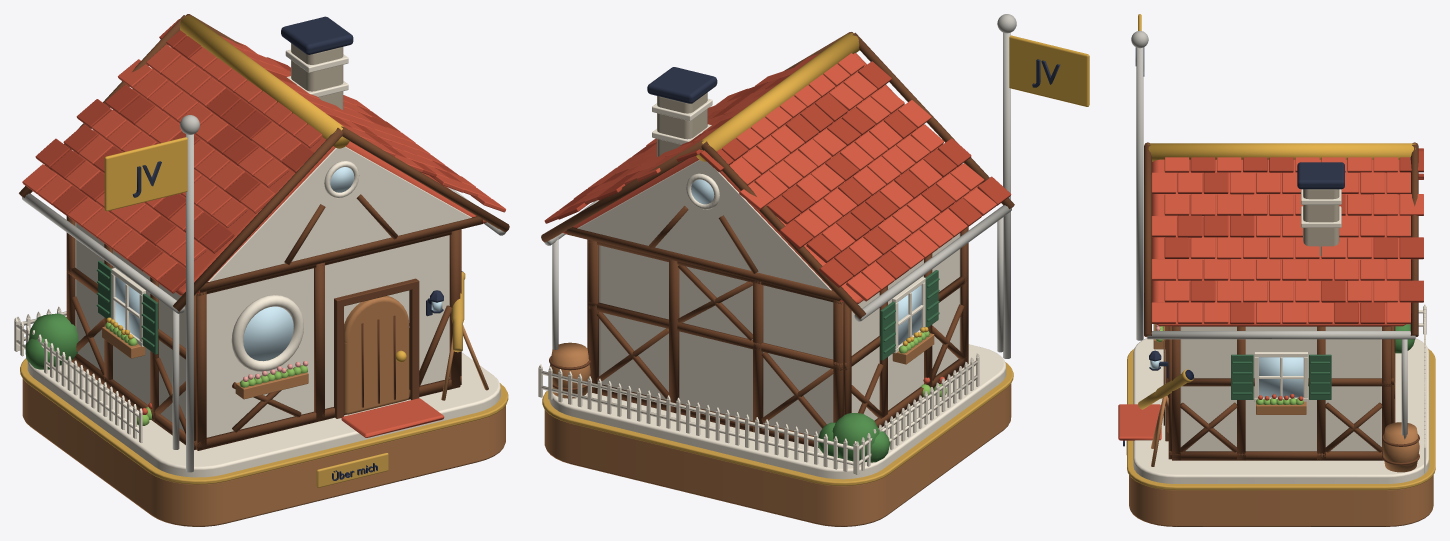
The model's file is about.glb.
3 views of the same model, side by side, from view 1: azimuth 30°, elevation 25°; view 2: azimuth 150°, elevation 25°; view 3: azimuth 270°, elevation 25° (orthographic). The views are drawn at different scales.
Visible parts, largest first — view 1: About_Walls, About_XTilesL, About, About_XGableF, About_XTilesDarkL, About_Deck, About_XTimbersF, About_Door, About_XTimbersL, About_XBoards, About_Trim, About_Flag (+26 smaller); view 2: About_Walls, About_XTilesL, About, About_XTilesDarkL, About_XTimbersB, About_XGableB, About_Deck, About_XTimbersL, About_XFenceB, About_XBoards, About_Trim, About_Flag (+18 smaller); view 3: About_XTilesR, About_Walls, About, About_Deck, About_XTilesDarkR, About_XTimbersR, About_Roof, About_Ridge, About_Trim, About_XGutters, About_XBoards, About_Pole (+13 smaller).
Part boxes in pixels (left/top/right/bottom): About_Walls: left=75, top=222, right=449, bottom=437; About_XTilesL: left=22, top=44, right=322, bottom=281; About: left=22, top=379, right=505, bottom=526; About_XGableF: left=208, top=146, right=471, bottom=281; About_XTilesDarkL: left=35, top=19, right=314, bottom=293; About_Deck: left=27, top=352, right=500, bottom=477; About_XTimbersF: left=196, top=229, right=460, bottom=450; About_Door: left=344, top=296, right=409, bottom=414; About_XTimbersL: left=66, top=216, right=196, bottom=449; About_XBoards: left=19, top=14, right=509, bottom=311; About_Trim: left=20, top=358, right=508, bottom=484; About_Flag: left=104, top=137, right=187, bottom=211; About_Walls: left=599, top=233, right=960, bottom=437; About_XTilesL: left=729, top=53, right=996, bottom=301; About: left=544, top=383, right=1011, bottom=526; About_XTilesDarkL: left=699, top=61, right=1011, bottom=287; About_XTimbersB: left=588, top=240, right=843, bottom=447; About_XGableB: left=577, top=160, right=831, bottom=290; About_Deck: left=549, top=344, right=1006, bottom=479; About_XTimbersL: left=843, top=227, right=968, bottom=427; About_XFenceB: left=538, top=364, right=856, bottom=474; About_XBoards: left=541, top=32, right=1014, bottom=318; About_Trim: left=542, top=362, right=1013, bottom=485; About_Flag: left=1009, top=35, right=1089, bottom=106; About_XTilesR: left=1151, top=157, right=1423, bottom=324; About_Walls: left=1180, top=326, right=1381, bottom=451; About: left=1129, top=475, right=1433, bottom=526; About_Deck: left=1133, top=338, right=1429, bottom=483; About_XTilesDarkR: left=1164, top=151, right=1423, bottom=324; About_XTimbersR: left=1172, top=326, right=1390, bottom=460; About_Roof: left=1152, top=159, right=1405, bottom=326; About_Ridge: left=1147, top=143, right=1415, bottom=161; About_Trim: left=1127, top=349, right=1435, bottom=490; About_XGutters: left=1147, top=331, right=1415, bottom=439; About_XBoards: left=1144, top=142, right=1418, bottom=337; About_Pole: left=1131, top=31, right=1148, bottom=340.
Size of the model in its own units: 5.76 by 5.43 by 4.38.
